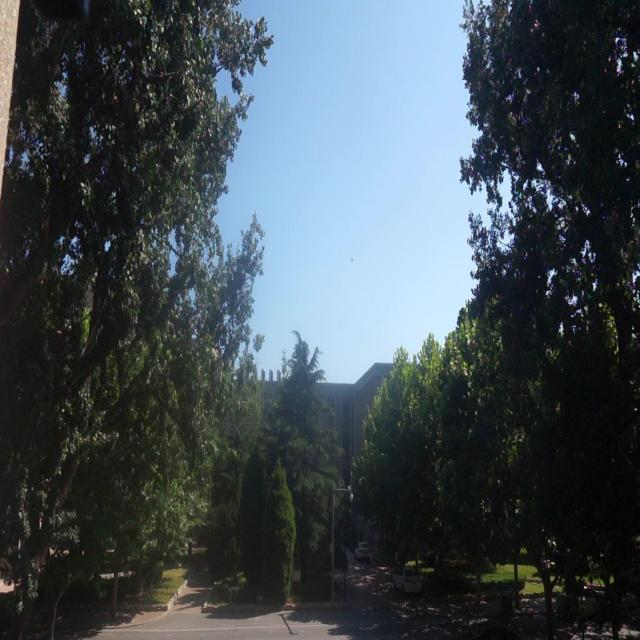UAV: (351, 258, 354, 262)
